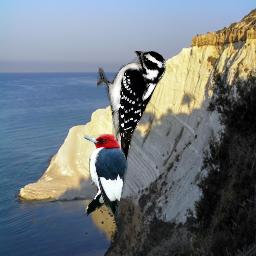Woodpecker: (97, 51, 166, 166), (83, 131, 128, 220)
